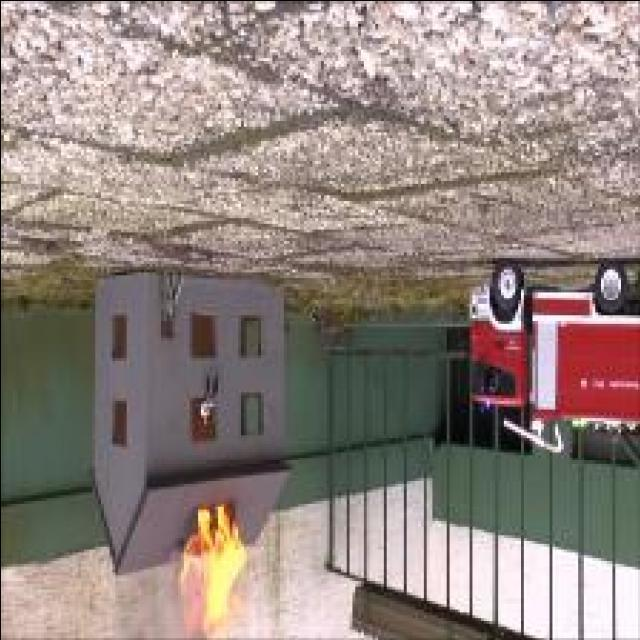Fire: (178, 506, 245, 634)
